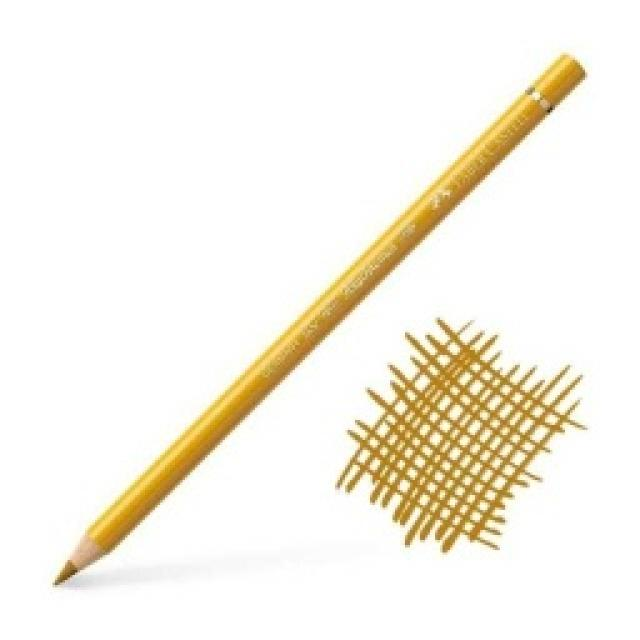pencil: (48, 48, 590, 588), (332, 313, 588, 555)
